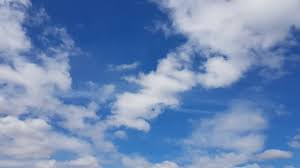sky: (1, 1, 299, 168)
